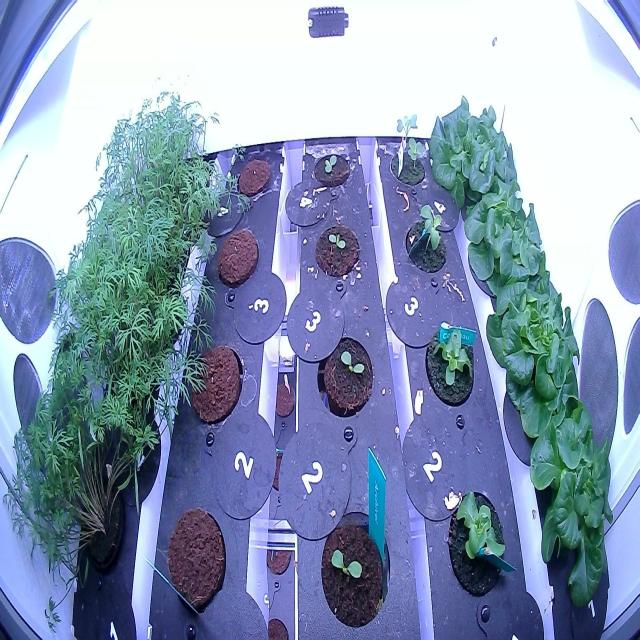germination: (316, 502, 390, 628), (314, 331, 375, 422), (312, 220, 361, 277), (309, 148, 352, 192)
pod: (165, 503, 229, 618), (185, 333, 247, 437), (216, 224, 260, 289), (235, 150, 272, 200)
